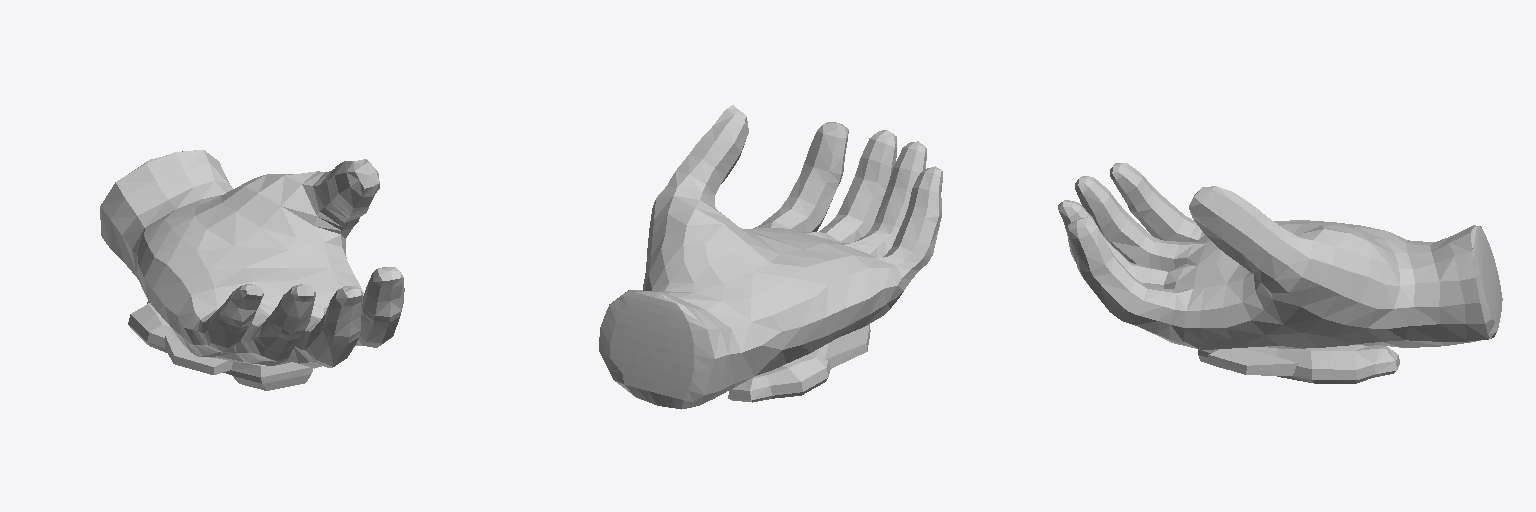
The model's file is uessadd.obj.
The picture shows the model from 3 angles: view 1: azimuth 30°, elevation 25°; view 2: azimuth 150°, elevation 25°; view 3: azimuth 270°, elevation 25°; orthographic projection.
Parts seen in each view (by area): view 1: M_MED_Jupiter.002_Mesh.003; view 2: M_MED_Jupiter.002_Mesh.003; view 3: M_MED_Jupiter.002_Mesh.003.
Boxes of the visible parts, x1,y1,x2,y2 form: M_MED_Jupiter.002_Mesh.003: [100, 150, 404, 390]; M_MED_Jupiter.002_Mesh.003: [599, 105, 942, 409]; M_MED_Jupiter.002_Mesh.003: [1058, 163, 1502, 383].
Size of the model in its own units: 0.8069 by 0.7701 by 1.49.